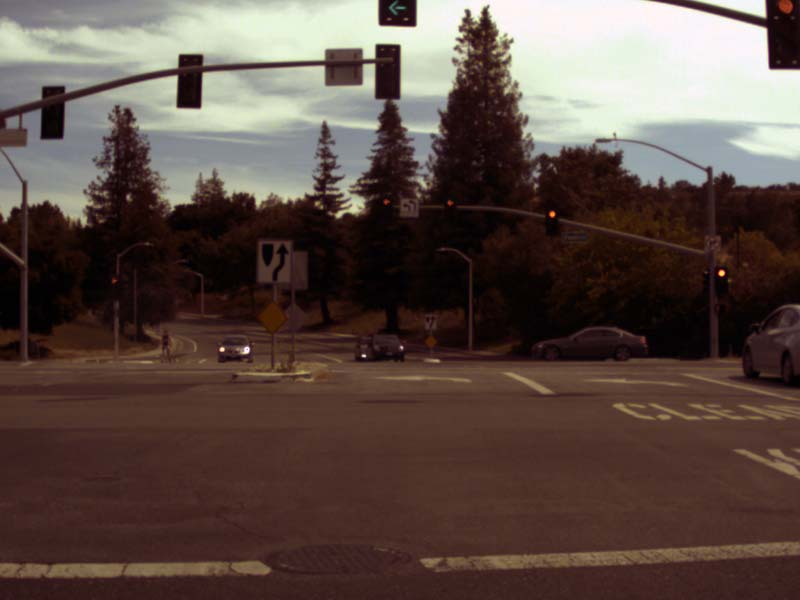Red: (713, 267, 727, 295), (545, 207, 557, 235), (108, 275, 121, 299), (444, 197, 455, 220), (379, 196, 391, 217)
